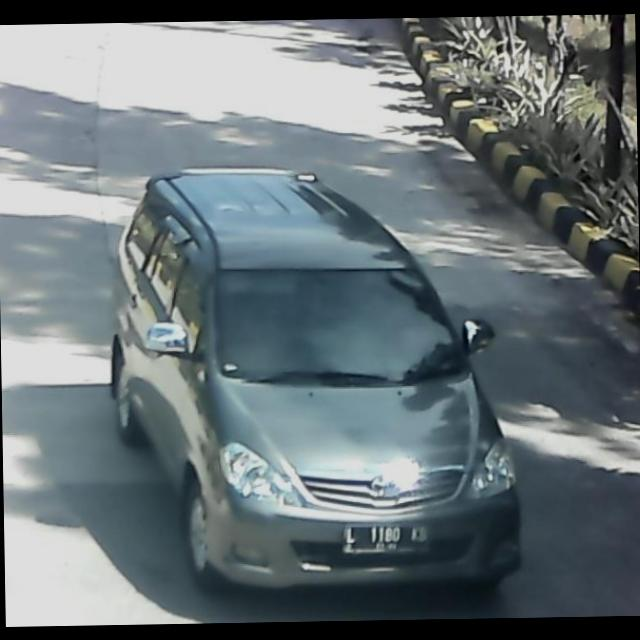plate: (342, 519, 435, 557)
